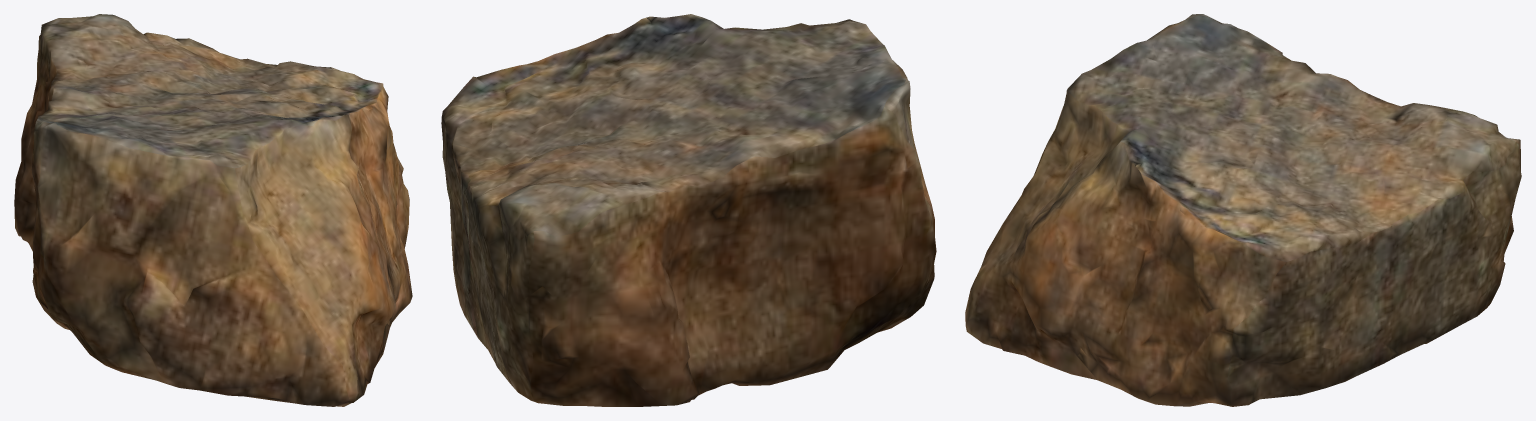
Rendered from rock_b.hi.glb.
3 views of the same model, side by side, from view 1: azimuth 30°, elevation 25°; view 2: azimuth 150°, elevation 25°; view 3: azimuth 270°, elevation 25° (orthographic). The views are drawn at different scales.
Parts seen in each view (by area): view 1: boulder_03_LOD0; view 2: boulder_03_LOD0; view 3: boulder_03_LOD0.
Boxes of the visible parts, bbox=[...] form: boulder_03_LOD0: bbox=[14, 14, 412, 406]; boulder_03_LOD0: bbox=[441, 14, 936, 406]; boulder_03_LOD0: bbox=[965, 14, 1521, 406].
Size of the model in its own units: 2.4 by 1.47 by 3.06.
Materials: 1 (1 with a texture image).
